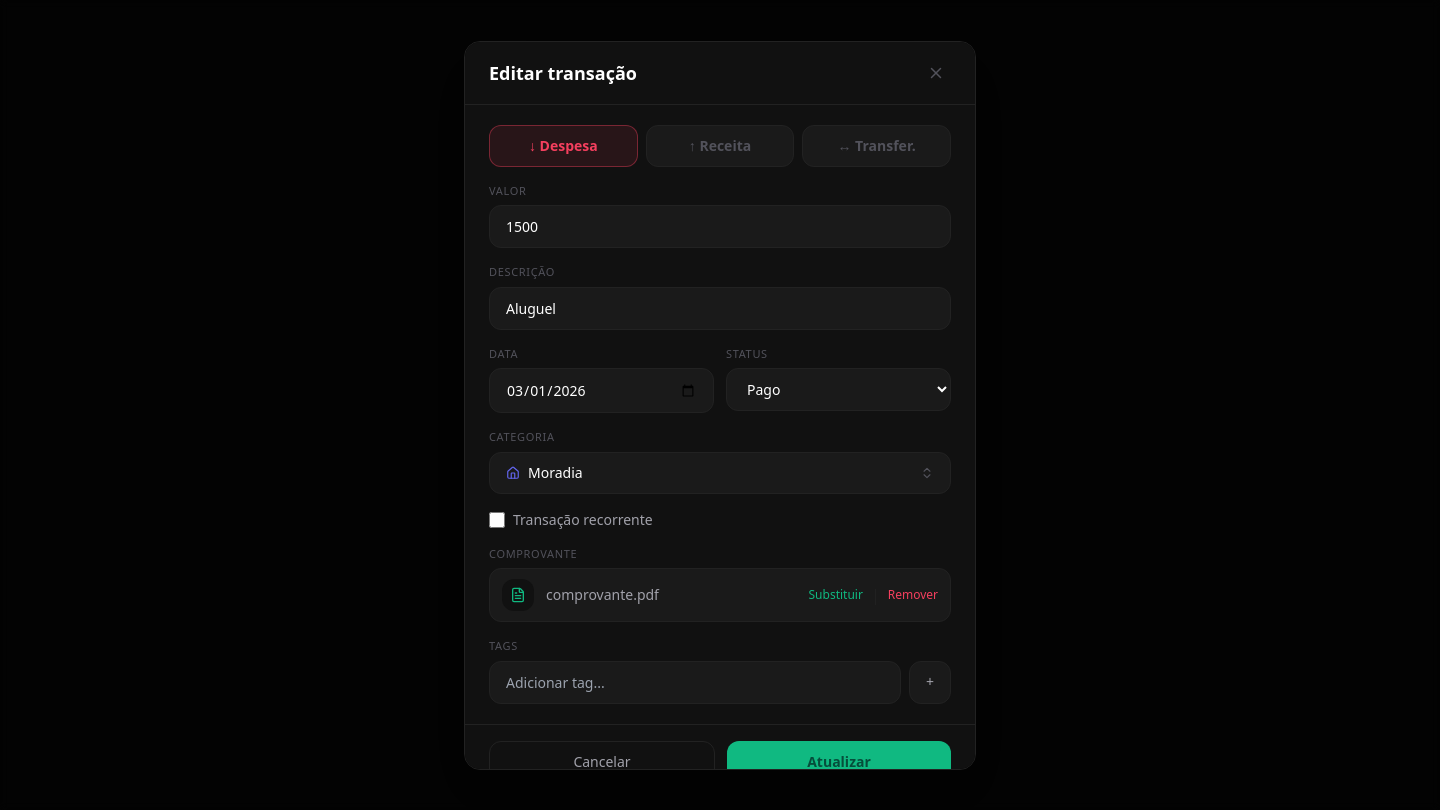
TransactionForm › deve esconder o comprovante após clicar em remover
Expected: the text "comprovante.pdf" is shown, [546,585,659,604]
Click the button "Remover" at (913, 595), box [888,587,938,603]
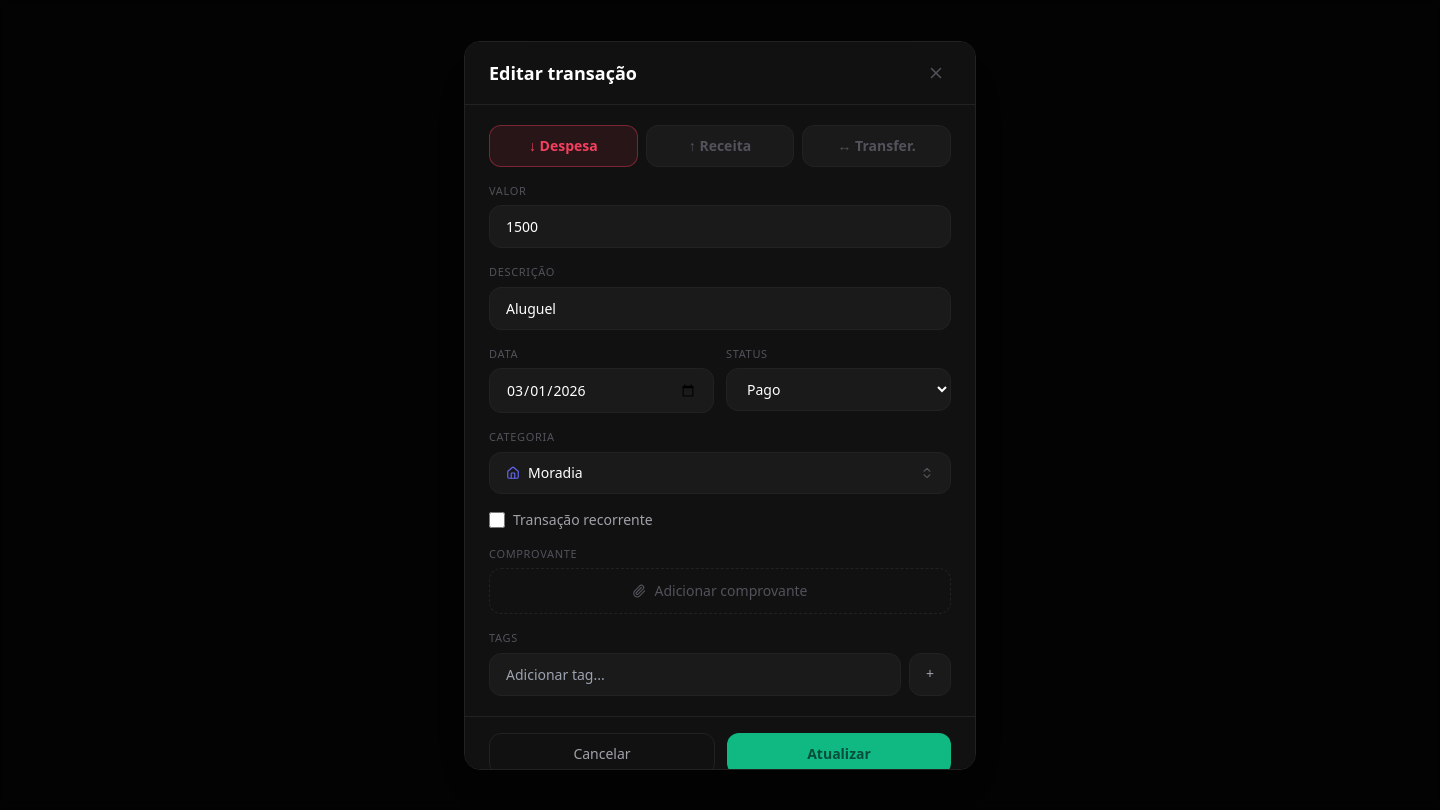
Expected: the text "comprovante.pdf" is gone
Expected: the button "Remover" is gone
Expected: the button "Adicionar comprovante" is shown, [489,568,951,614]
